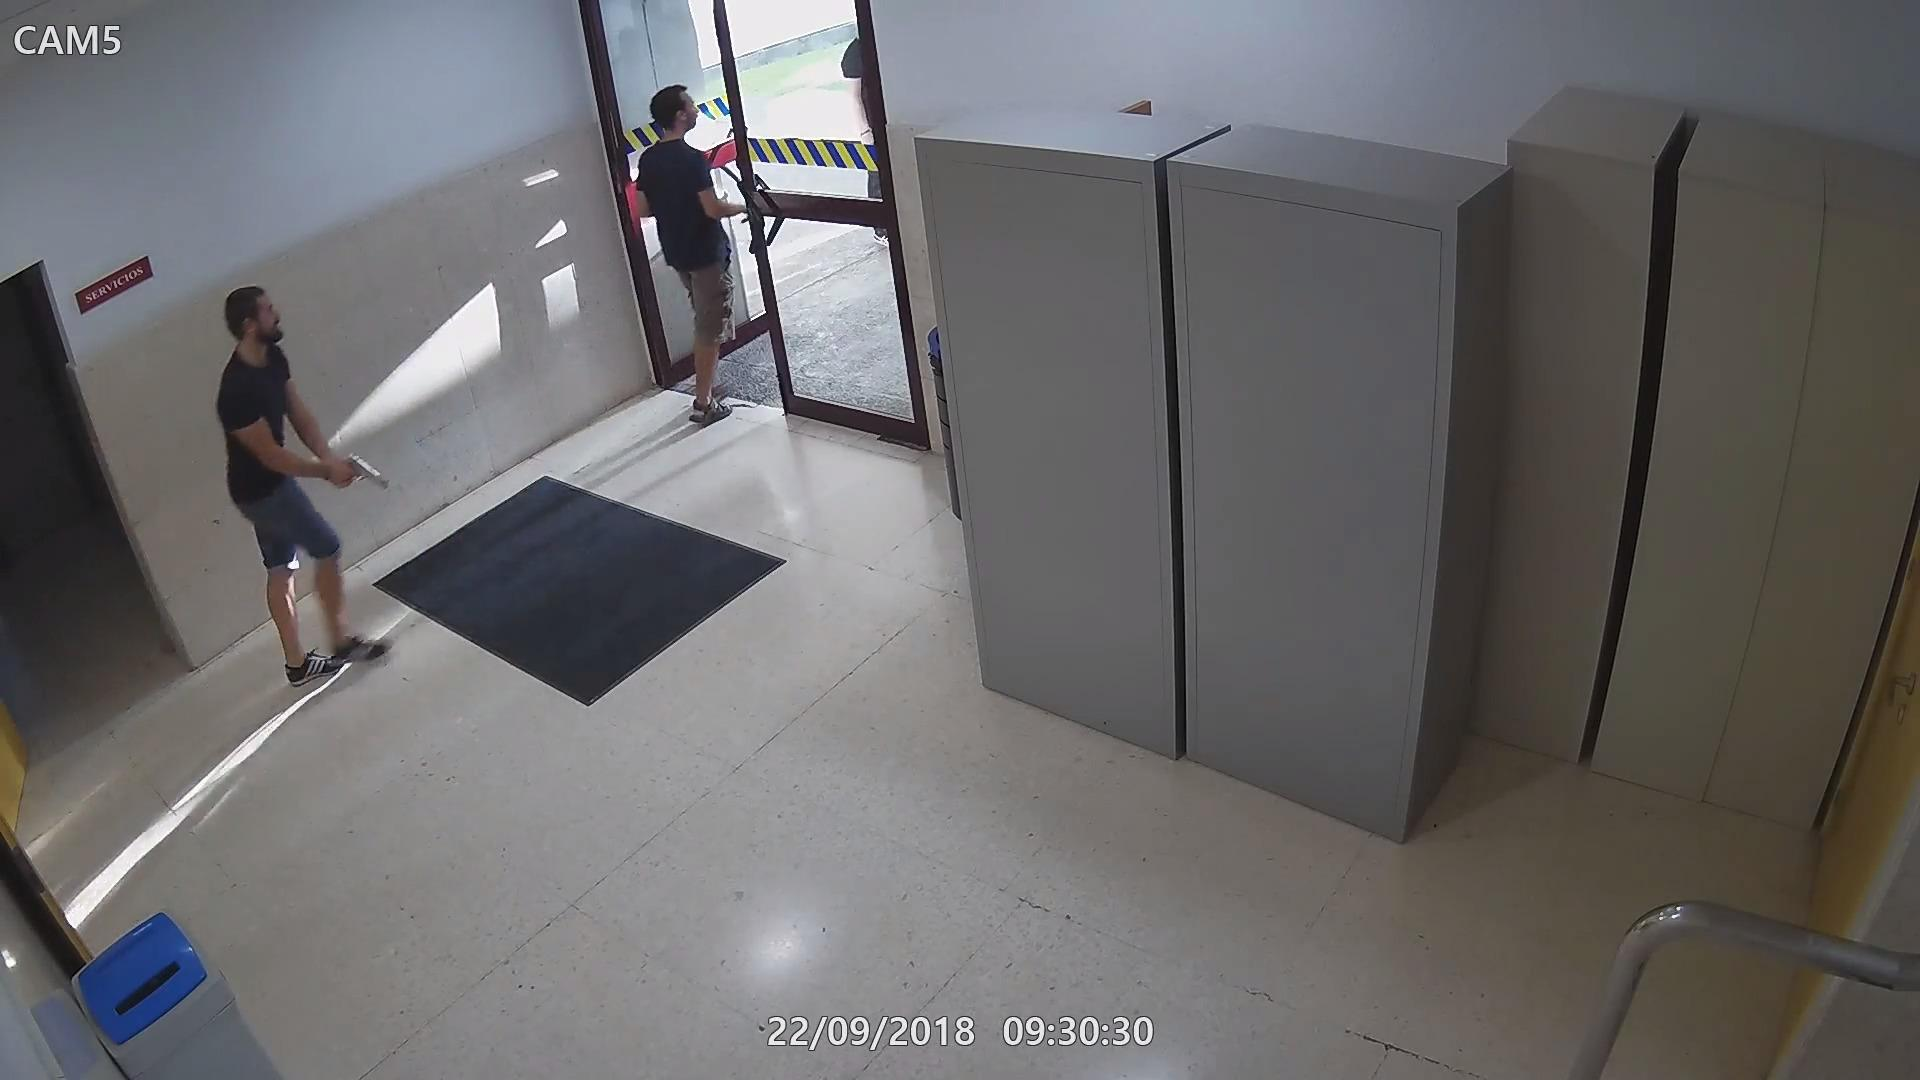Handgun: (323, 446, 389, 489)
